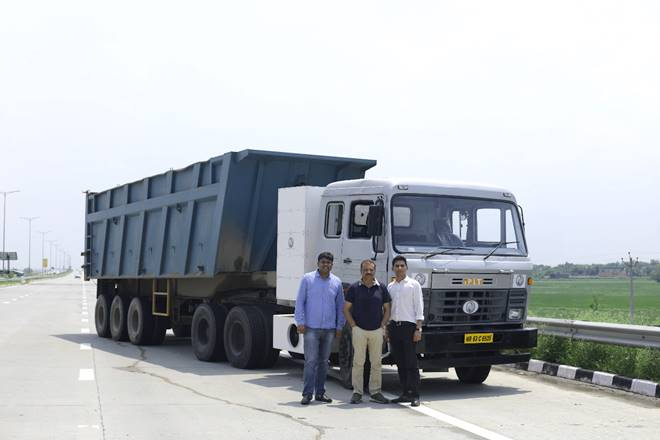Truck: (88, 165, 544, 394)
